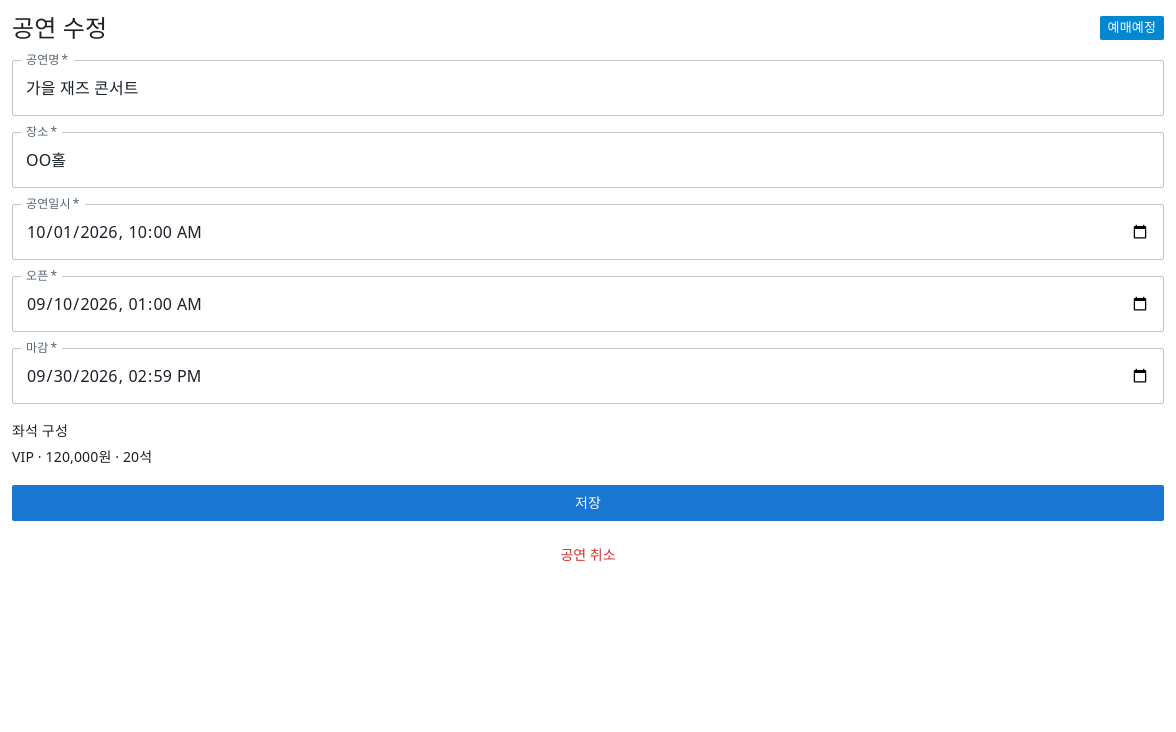
PerformanceEditPage › SC-07 (error) 오픈 이후 수정하려 하면 전용 안내가 표시된다
The width and height of the screenshot is (1176, 732).
Expected: the field showing "가을 재즈 콘서트" is shown, [12,60,1164,116]
Click the button "저장" at (588, 503), box [12,485,1164,521]
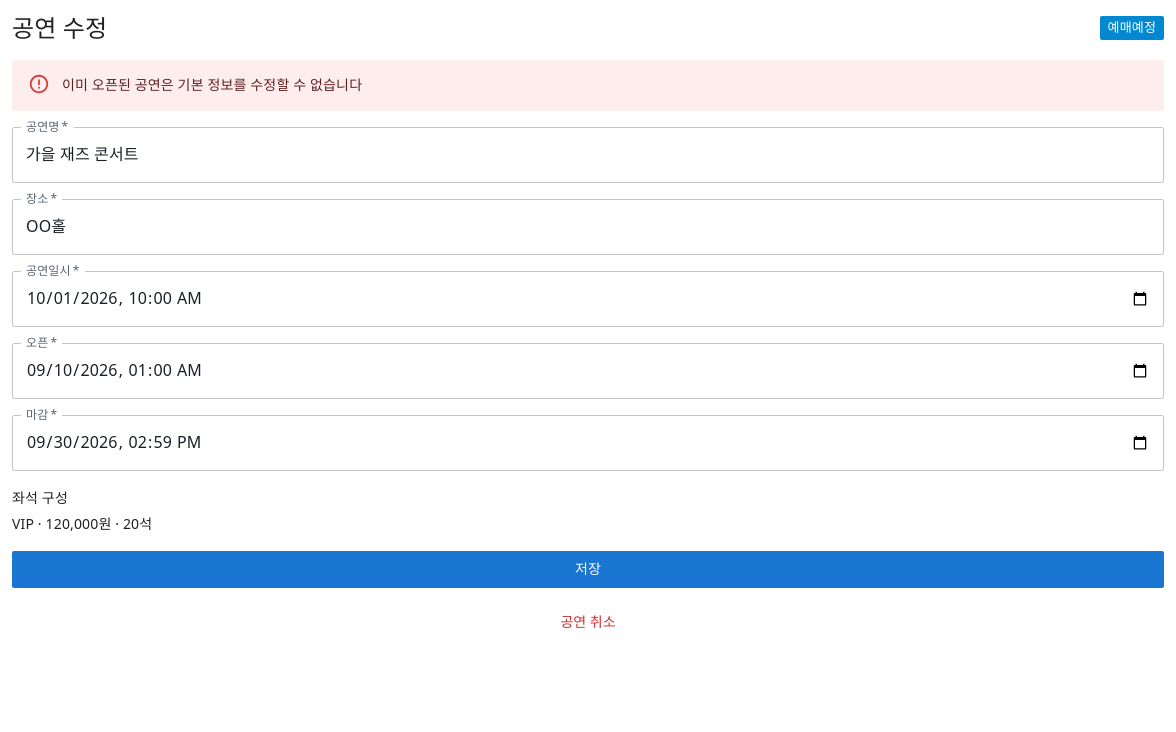
Expected: the text "이미 오픈된 공연은 기본 정보를 수정할 수 없습니다" is shown, [62,75,362,94]
